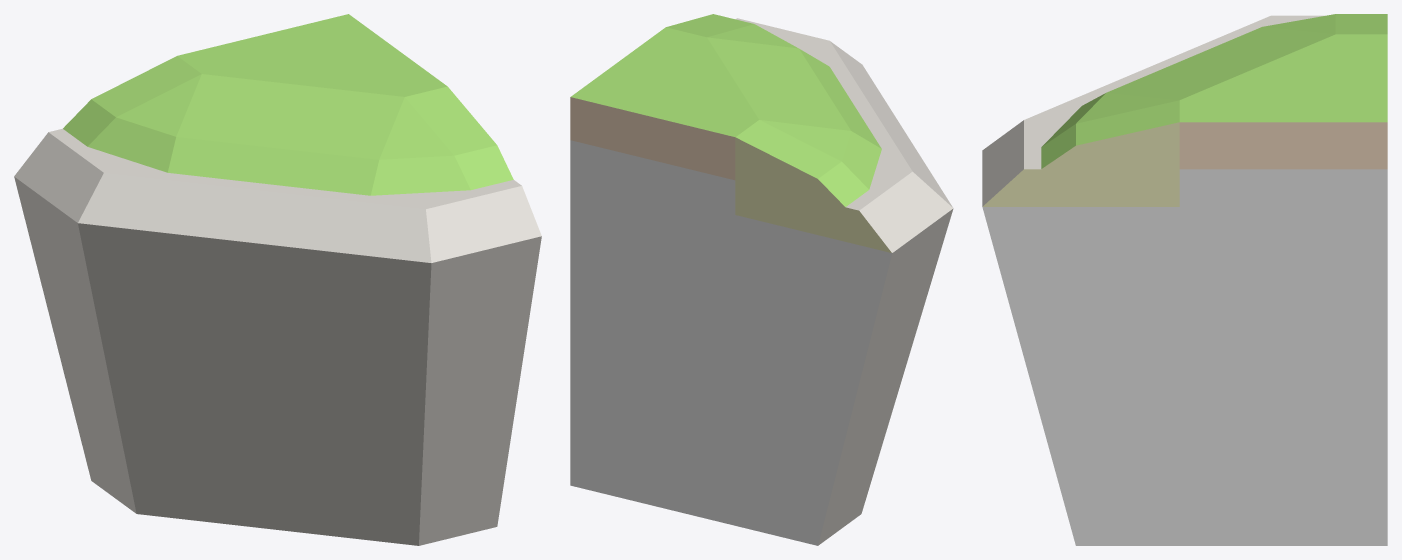
File: Basic_Curve_Outer_2x2_Wide_Top.glb
3 renders of one model, left to right at view 1: azimuth 30°, elevation 25°; view 2: azimuth 150°, elevation 25°; view 3: azimuth 270°, elevation 25°, orthographic. The views are drawn at different scales.
Visible parts, largest first — view 1: Basic_Curve_Outer_2x2_Wide_Top; view 2: Basic_Curve_Outer_2x2_Wide_Top; view 3: Basic_Curve_Outer_2x2_Wide_Top.
Part boxes in pixels (x1,y1,x2,y2): Basic_Curve_Outer_2x2_Wide_Top: [14, 14, 541, 545]; Basic_Curve_Outer_2x2_Wide_Top: [570, 14, 953, 545]; Basic_Curve_Outer_2x2_Wide_Top: [982, 14, 1387, 545].
Bounding box in the file's own units: 195 × 225 × 195.
